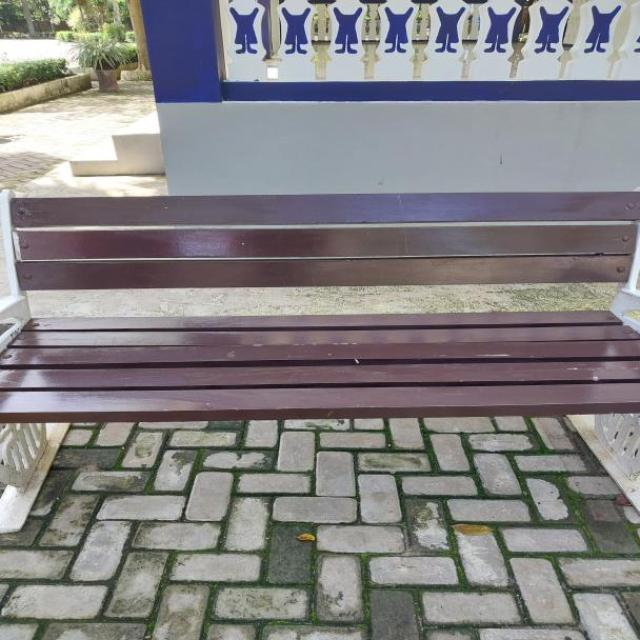bench ahead at: (0, 193, 640, 438)
